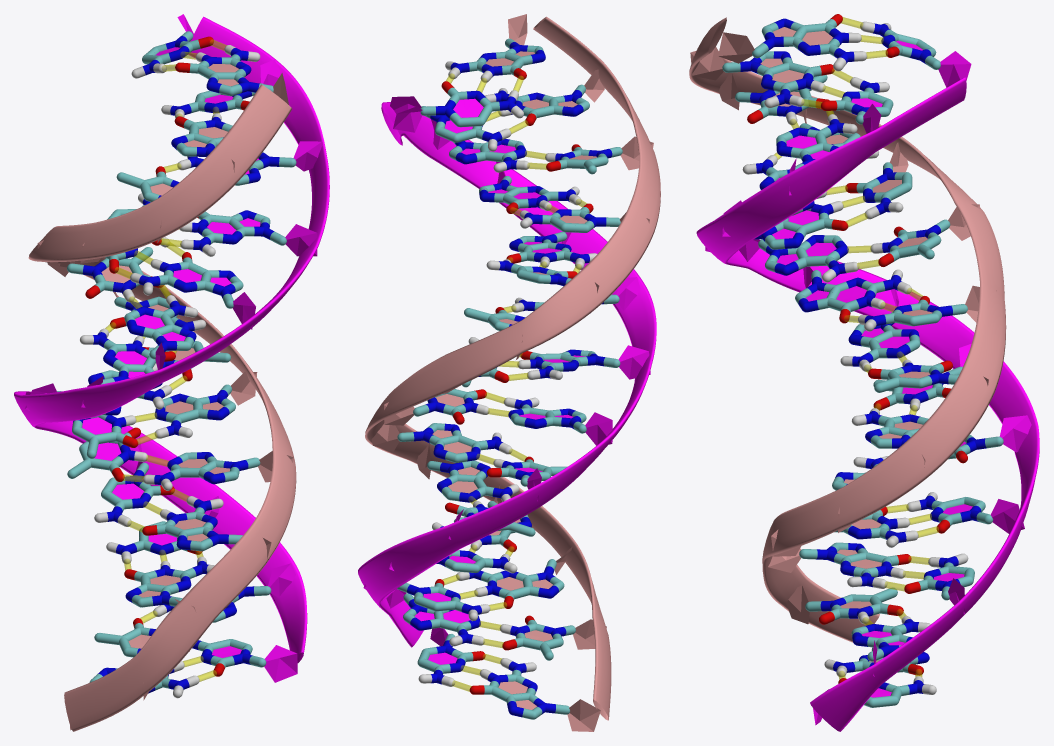
Rendered from dna3.glb.
3 renders of one model, left to right at view 1: azimuth 30°, elevation 25°; view 2: azimuth 150°, elevation 25°; view 3: azimuth 270°, elevation 25°, orthographic. The views are drawn at different scales.
Parts seen in each view (by area): view 1: Object_3, Object_2, Object_11, Object_6, Object_4, Object_10, Object_13, Object_8, Object_5, Object_9, Object_12, Object_7; view 2: Object_3, Object_2, Object_11, Object_10, Object_4, Object_13, Object_8, Object_6, Object_5, Object_9, Object_12, Object_7; view 3: Object_3, Object_2, Object_10, Object_4, Object_13, Object_11, Object_5, Object_8, Object_9, Object_6, Object_12, Object_7.
Boxes of the visible parts, x1,y1,x2,y2 form: Object_3: (28, 64, 296, 731); Object_2: (14, 14, 329, 682); Object_11: (101, 31, 286, 667); Object_6: (93, 36, 274, 665); Object_4: (73, 152, 279, 653); Object_10: (89, 54, 273, 690); Object_13: (80, 45, 260, 698); Object_8: (67, 171, 260, 657); Object_5: (98, 48, 259, 693); Object_9: (57, 152, 296, 622); Object_12: (105, 39, 226, 681); Object_7: (85, 36, 249, 676); Object_3: (365, 14, 660, 731); Object_2: (358, 96, 656, 664); Object_11: (397, 87, 620, 673); Object_10: (462, 38, 620, 719); Object_4: (408, 139, 612, 643); Object_13: (418, 61, 597, 686); Object_8: (397, 147, 622, 660); Object_6: (407, 90, 605, 684); Object_5: (440, 42, 606, 717); Object_9: (403, 139, 619, 634); Object_12: (442, 73, 586, 691); Object_7: (435, 68, 593, 694); Object_3: (689, 17, 1006, 662); Object_2: (696, 40, 1039, 731); Object_10: (722, 19, 967, 673); Object_4: (750, 90, 986, 657); Object_13: (742, 21, 968, 694); Object_11: (765, 29, 993, 707); Object_5: (740, 18, 952, 672); Object_8: (735, 75, 958, 620); Object_9: (758, 127, 1003, 661); Object_6: (755, 23, 981, 694); Object_12: (774, 17, 938, 679); Object_7: (747, 14, 967, 683).
Bounding box in the file's own units: 1.01 × 2.41 × 1.1.
